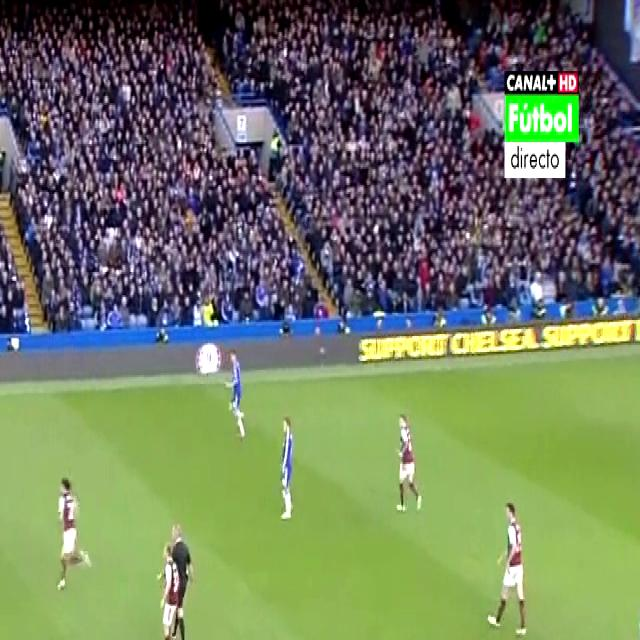referee: (168, 515, 192, 640)
soccer-player: (482, 485, 535, 640), (50, 468, 97, 602), (388, 403, 424, 520), (150, 535, 183, 640), (273, 408, 301, 528), (223, 344, 249, 446), (617, 546, 640, 640)
